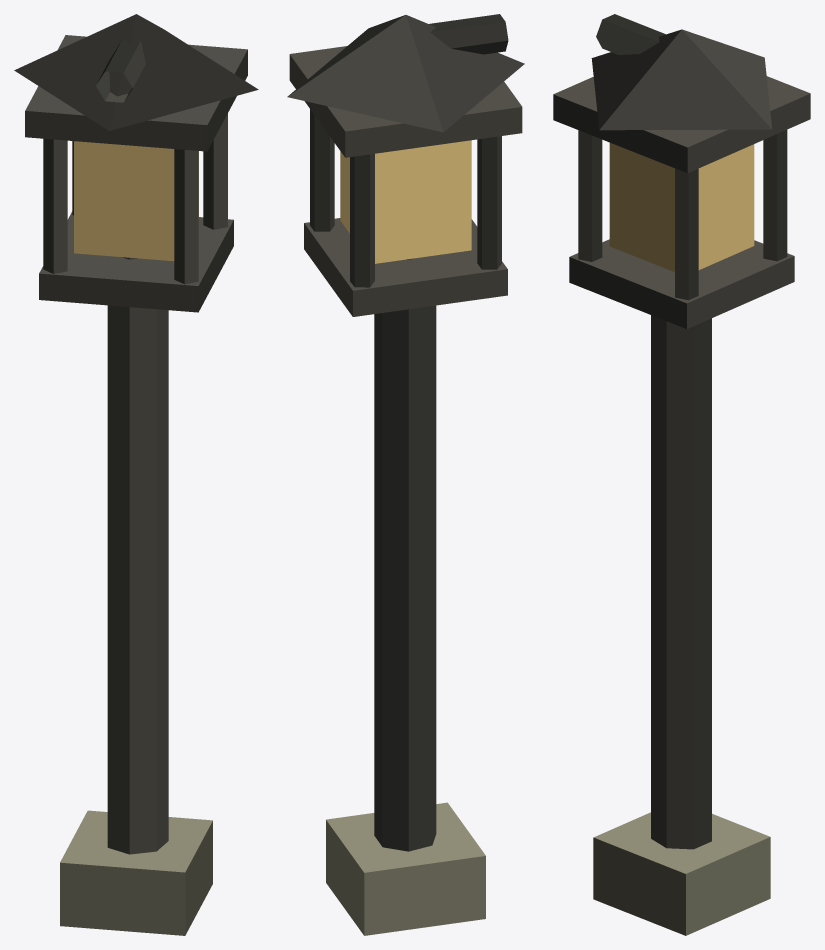
The picture shows the model from 3 angles, left to right: view 1: azimuth 30°, elevation 25°; view 2: azimuth 150°, elevation 25°; view 3: azimuth 270°, elevation 25°; orthographic projection. The views are drawn at different scales.
Visible parts, largest first — view 1: e52c4208bf2ae9215d65fe87ff3478f6fe3e0b5f61ad08c2b0832858cbff; view 2: e52c4208bf2ae9215d65fe87ff3478f6fe3e0b5f61ad08c2b0832858cbff; view 3: e52c4208bf2ae9215d65fe87ff3478f6fe3e0b5f61ad08c2b0832858cbff.
Part boxes in pixels (x1=…): e52c4208bf2ae9215d65fe87ff3478f6fe3e0b5f61ad08c2b0832858cbff: x1=14, y1=14, x2=258, y2=935; e52c4208bf2ae9215d65fe87ff3478f6fe3e0b5f61ad08c2b0832858cbff: x1=287, y1=14, x2=524, y2=935; e52c4208bf2ae9215d65fe87ff3478f6fe3e0b5f61ad08c2b0832858cbff: x1=553, y1=14, x2=810, y2=935.
Bounding box in the file's own units: 0.9043 × 3.38 × 0.9042.
2 materials, 1 textured.
